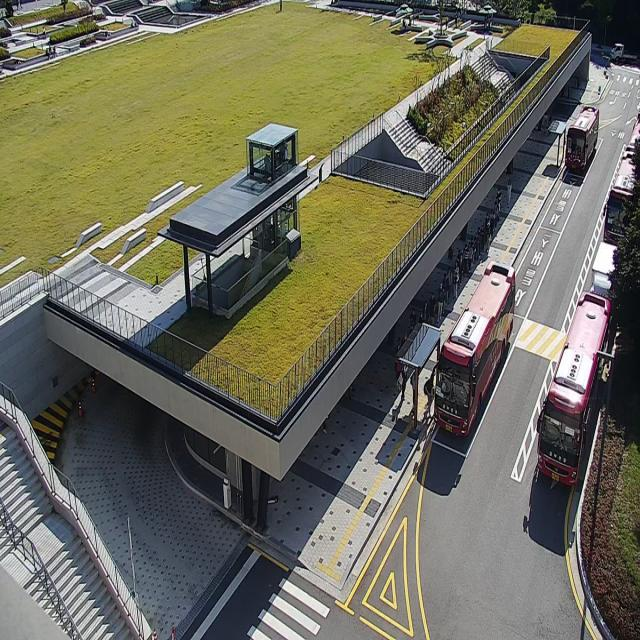queue: (413, 185, 503, 435)
